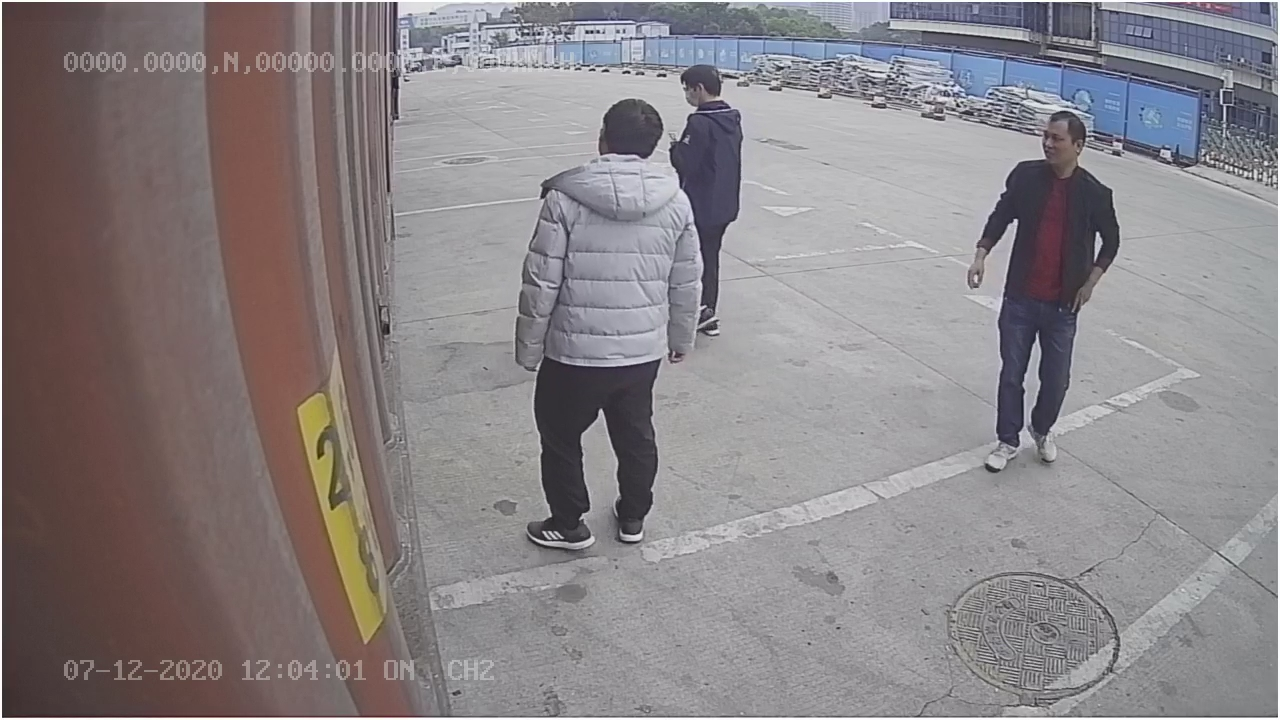person: (965, 95, 1123, 485)
